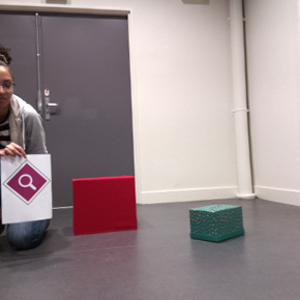search: (3, 160, 49, 204)
